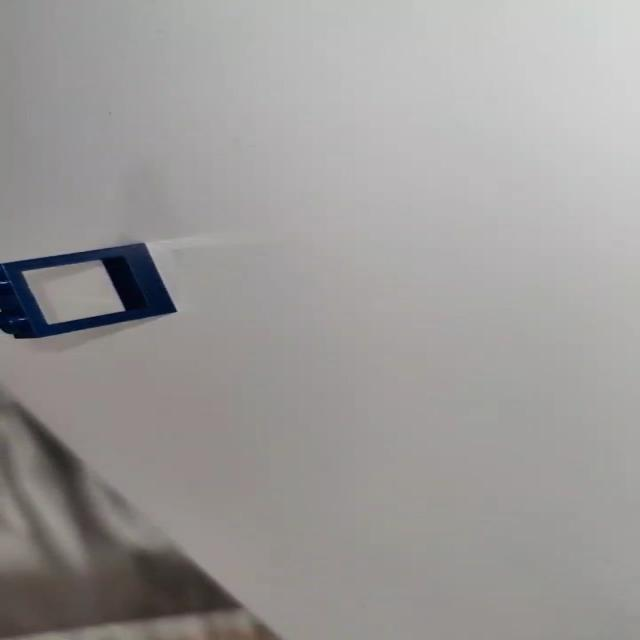W2x1x2: (0, 240, 209, 345)
